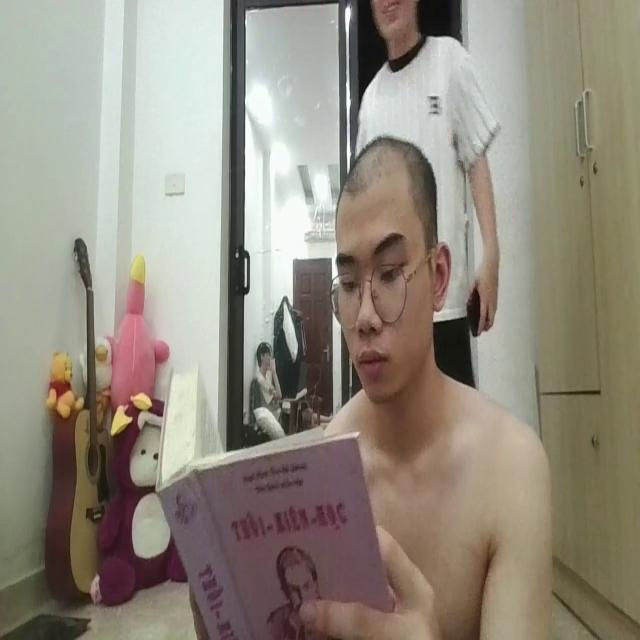book: (156, 361, 397, 640)
extra_person: (346, 0, 499, 392), (254, 320, 284, 406)
student: (313, 143, 550, 640)
